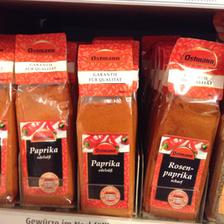Gewuerze: (144, 35, 224, 219), (76, 41, 136, 220), (14, 32, 74, 208)
